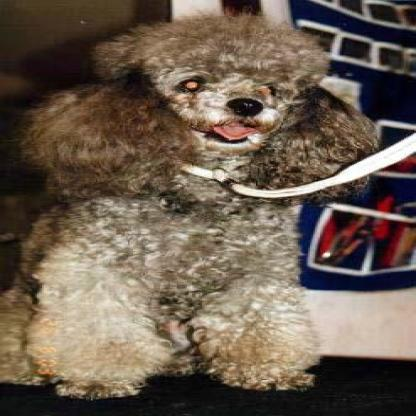miniature_poodle: (0, 6, 382, 400)
